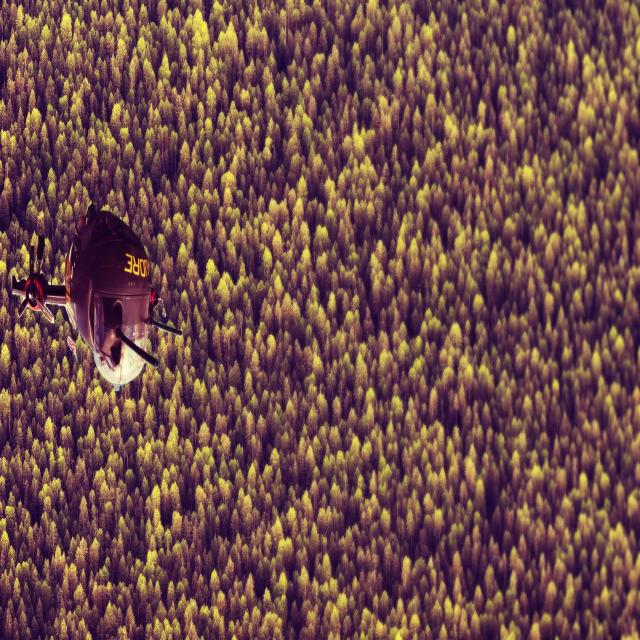airplane: (11, 200, 183, 393)
